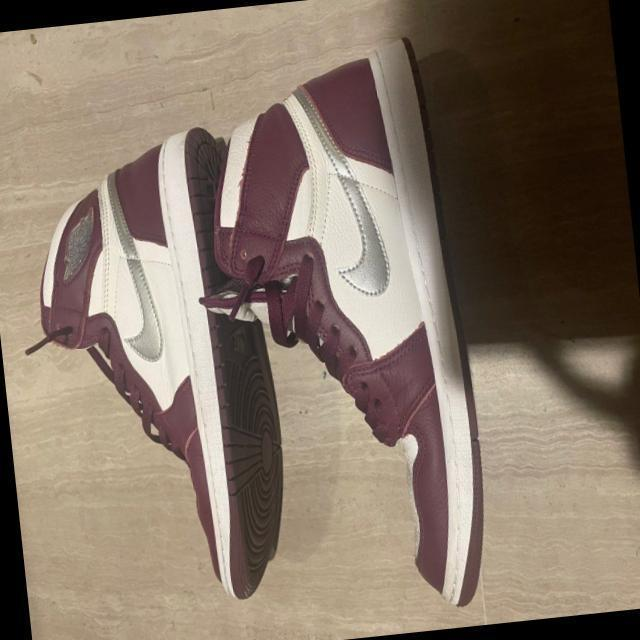nike original jordan 1: (188, 18, 498, 630), (18, 119, 298, 618)
